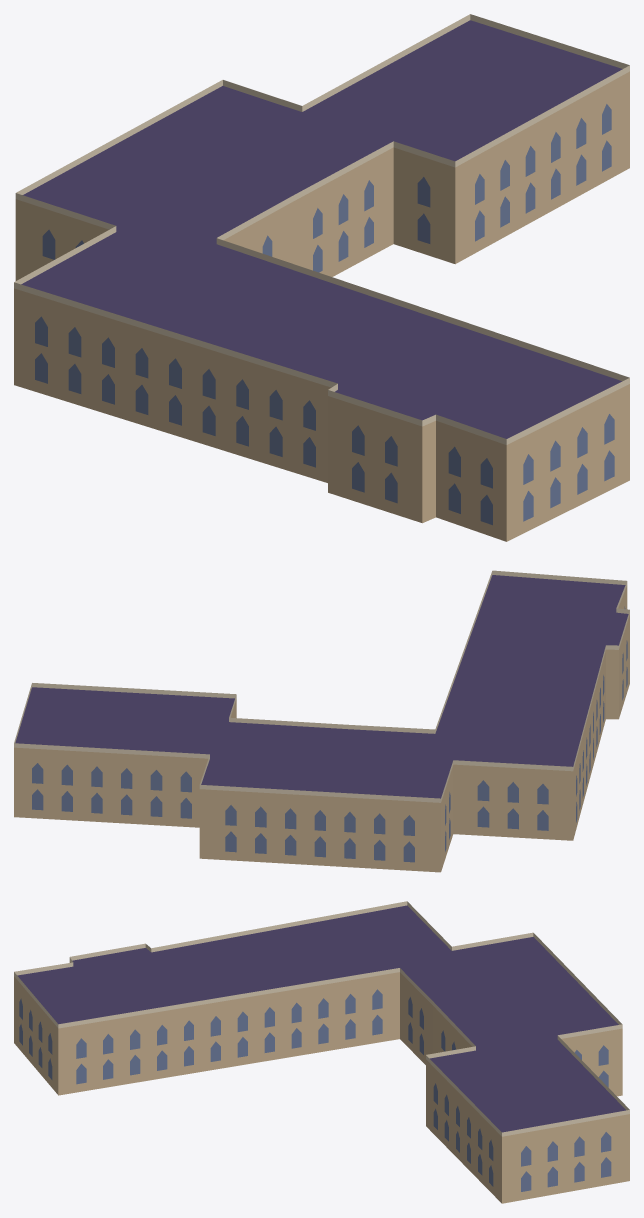
The model's file is b-014-day.glb.
The picture shows the model from 3 angles, top to bottom: view 1: azimuth 30°, elevation 25°; view 2: azimuth 150°, elevation 25°; view 3: azimuth 270°, elevation 25°; orthographic projection. The views are drawn at different scales.
Visible parts, largest first — view 1: campus/b-014-day-0; view 2: campus/b-014-day-0; view 3: campus/b-014-day-0.
Boxes of the visible parts, bbox=[...] form: campus/b-014-day-0: bbox=[14, 14, 629, 541]; campus/b-014-day-0: bbox=[14, 570, 629, 872]; campus/b-014-day-0: bbox=[14, 901, 629, 1203].
Size of the model in its own units: 64.41 by 9.25 by 72.48.
